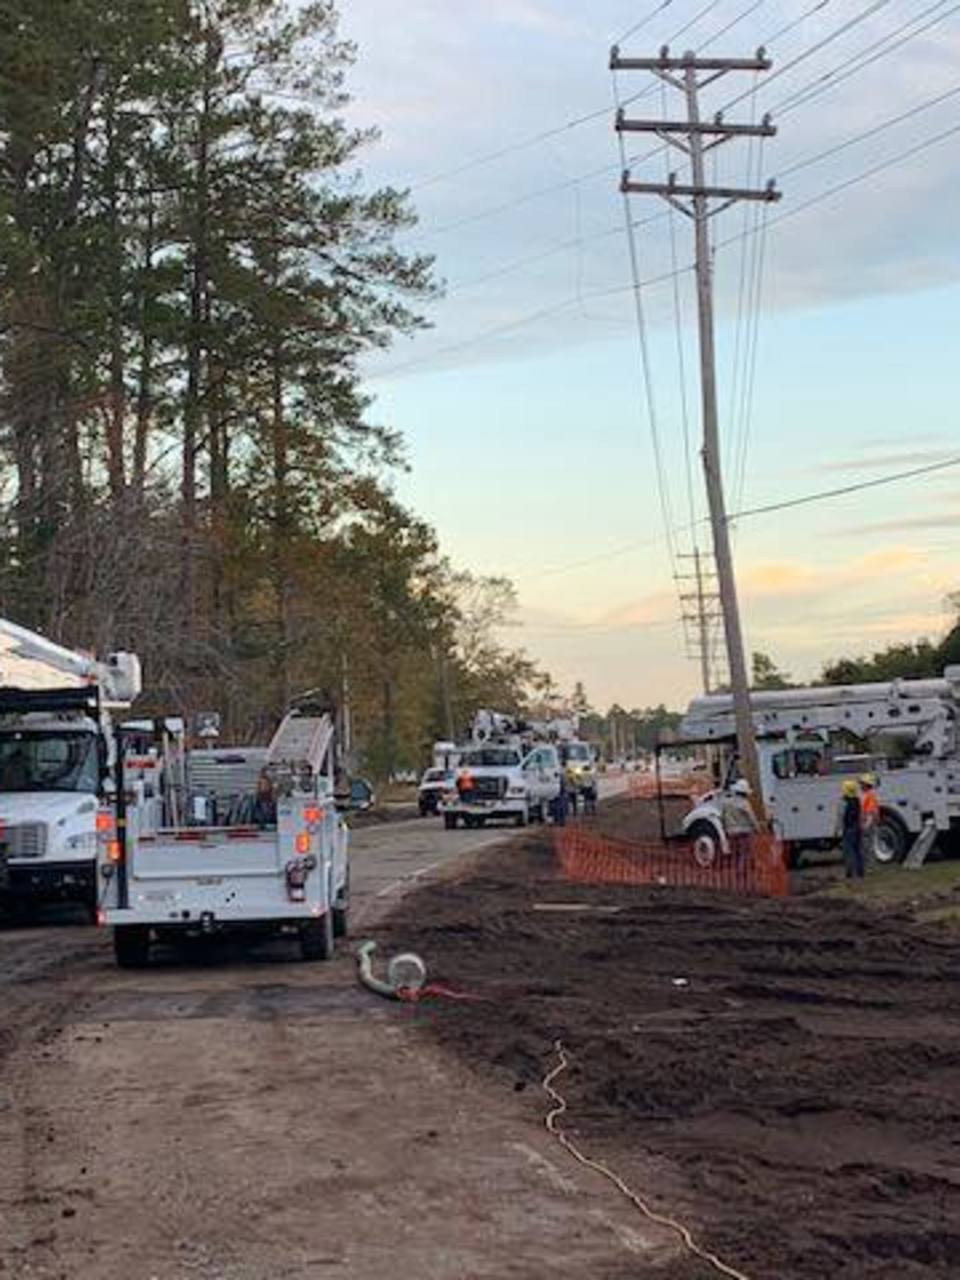utility_pole: (581, 13, 794, 267)
